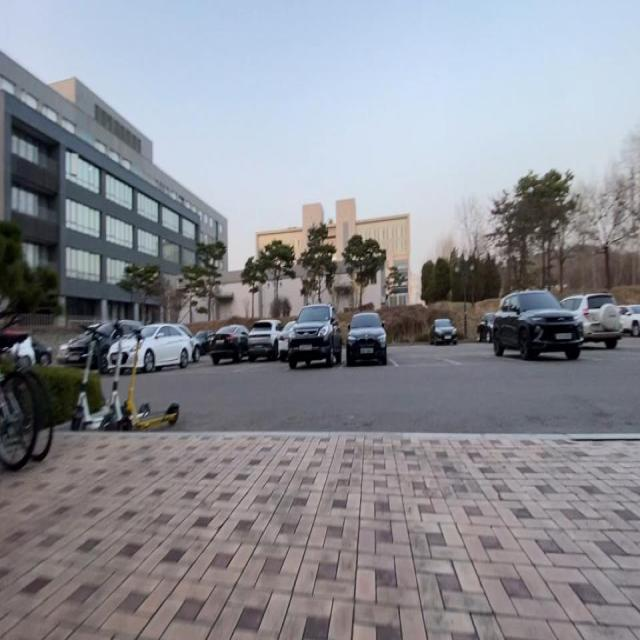sidewalk: (0, 427, 640, 640)
